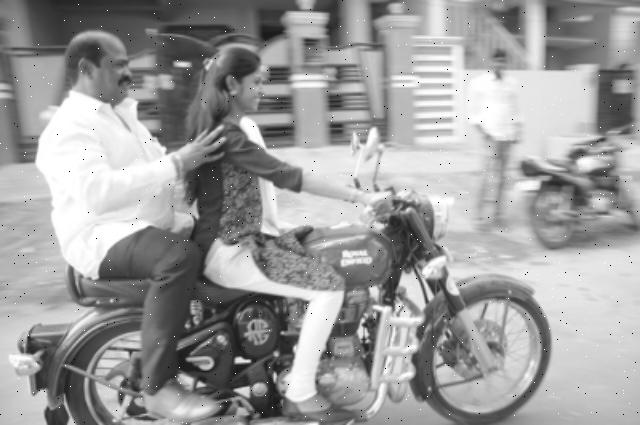Without Helmet: (62, 23, 138, 111), (206, 38, 270, 118), (484, 43, 508, 73)
